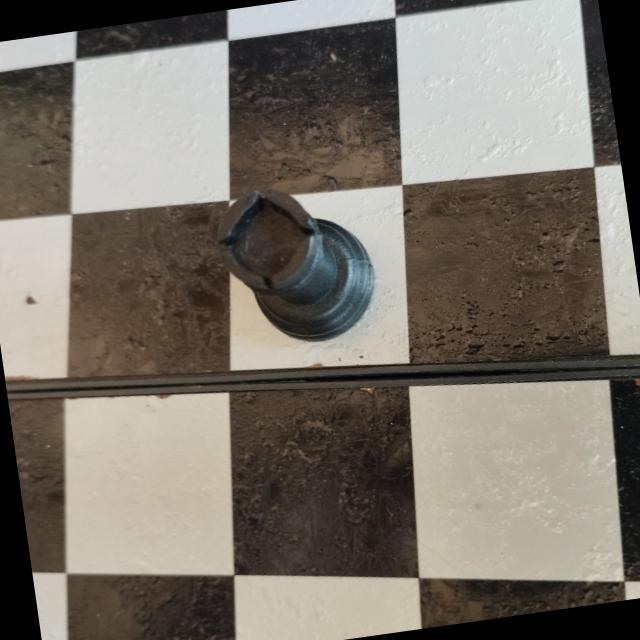Black Rook: (204, 166, 388, 356)
